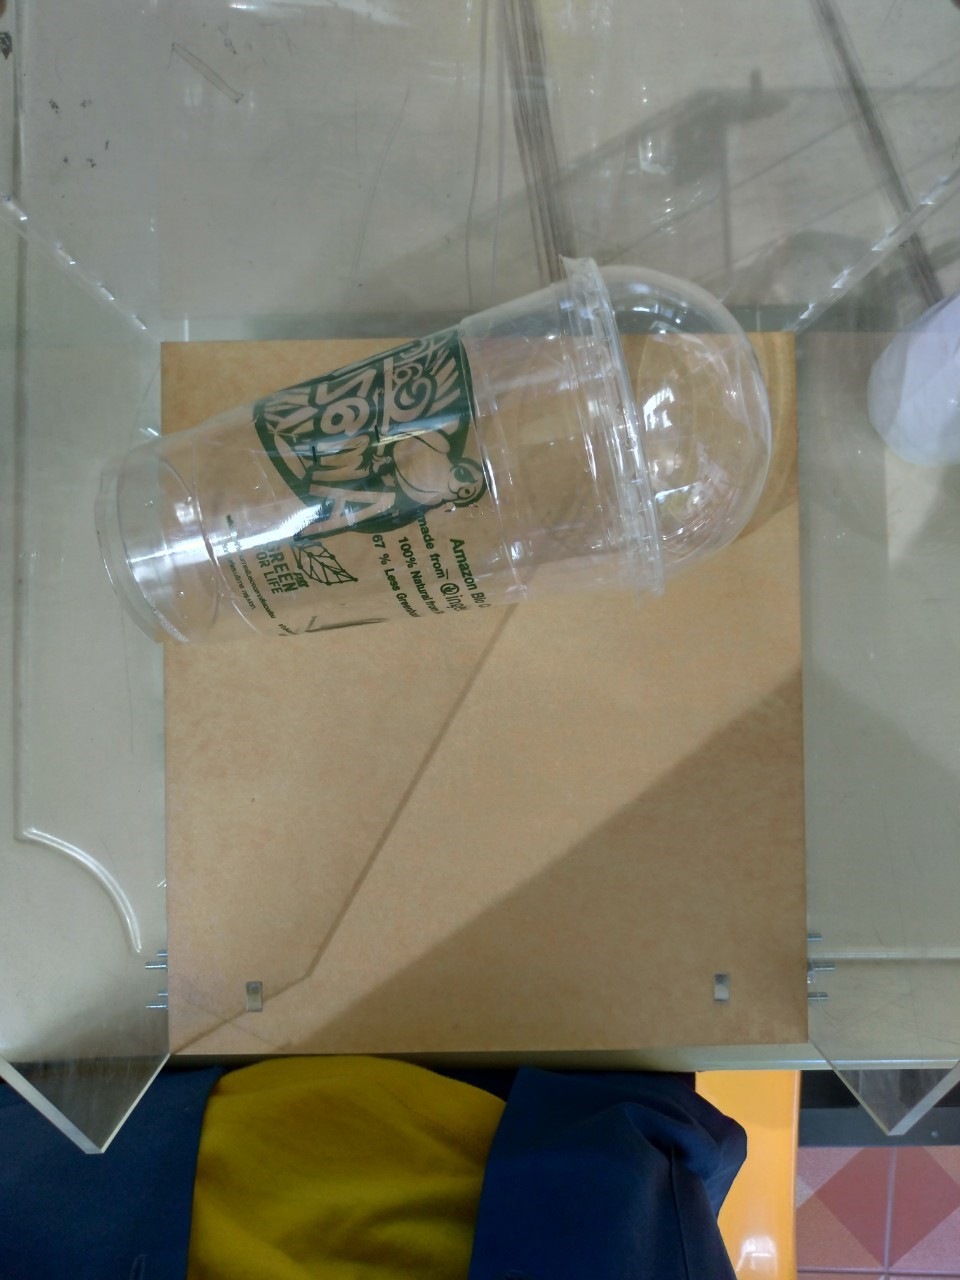PlasticCup: (96, 251, 779, 651)
